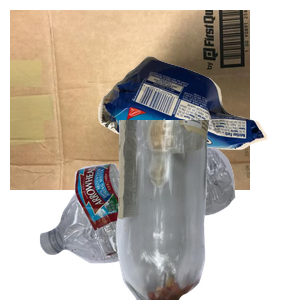cardboard: (10, 10, 250, 190)
glass: (113, 120, 300, 300)
plastic: (37, 144, 265, 300)
trash: (95, 53, 300, 195)
